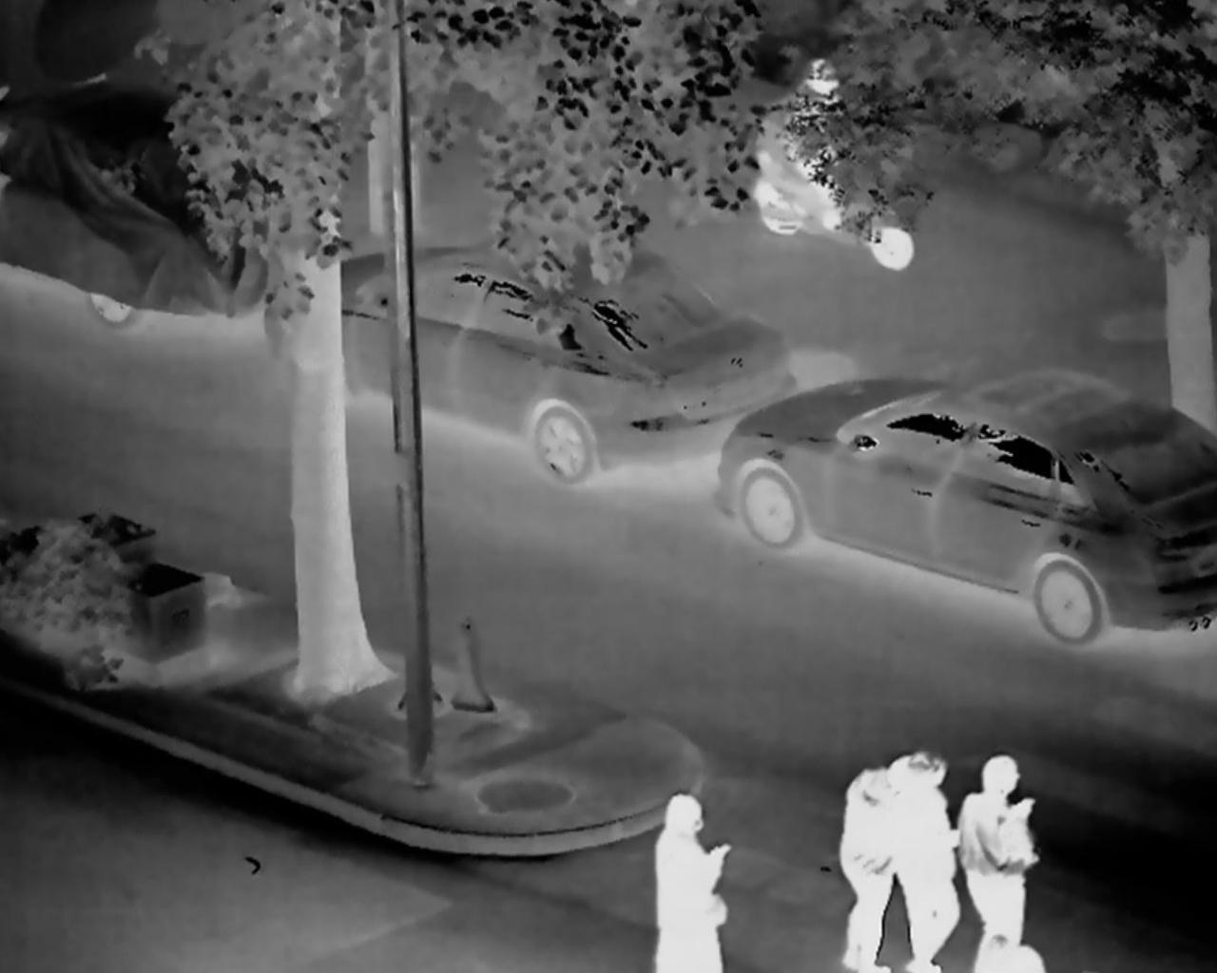person: (635, 773, 745, 973), (956, 754, 1053, 973), (886, 731, 970, 973), (782, 59, 888, 231), (842, 755, 901, 973)
